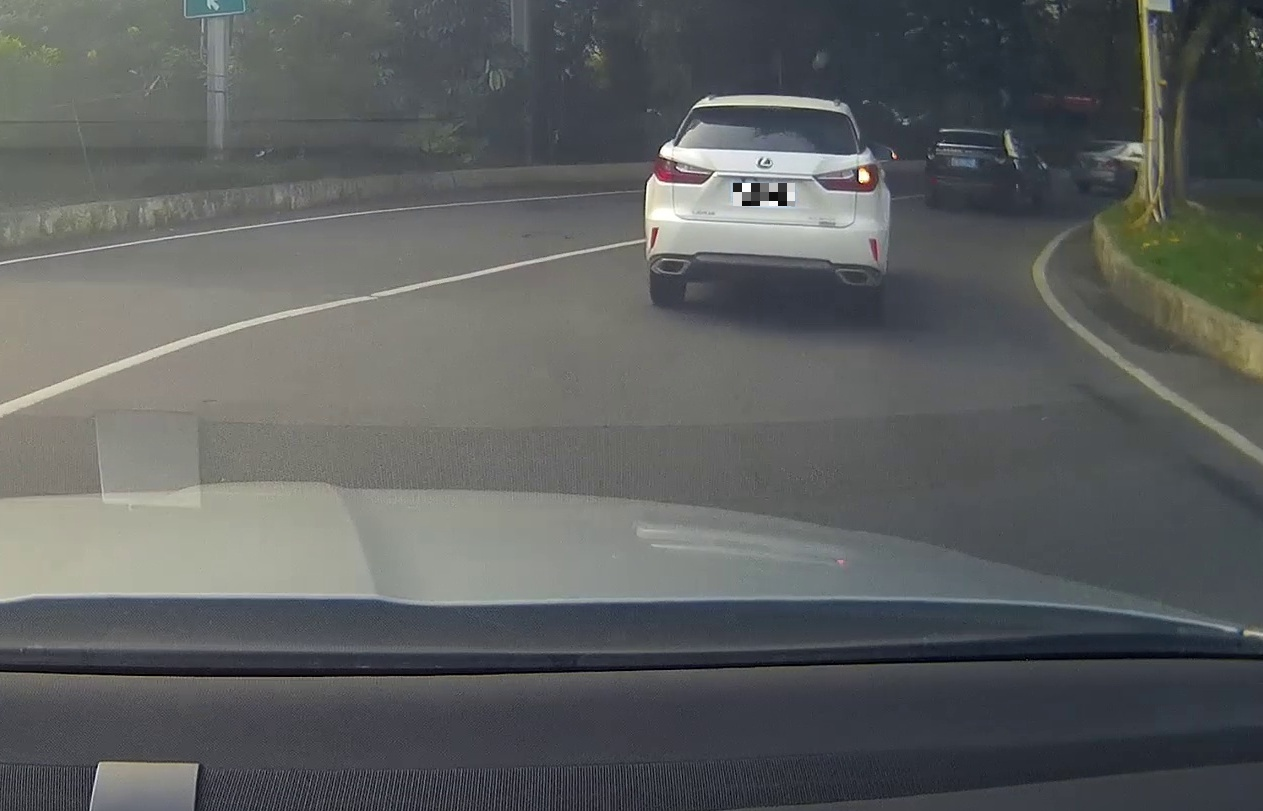L_light: (653, 155, 715, 185)
R_light: (812, 163, 879, 192)
T_light: (751, 108, 789, 115)
day-right: (645, 97, 890, 313)
plate_1: (733, 183, 795, 206)
